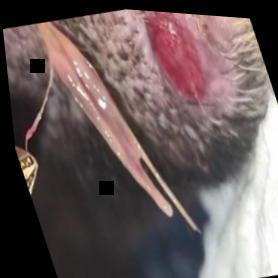skin_lesions: (134, 8, 216, 112)
